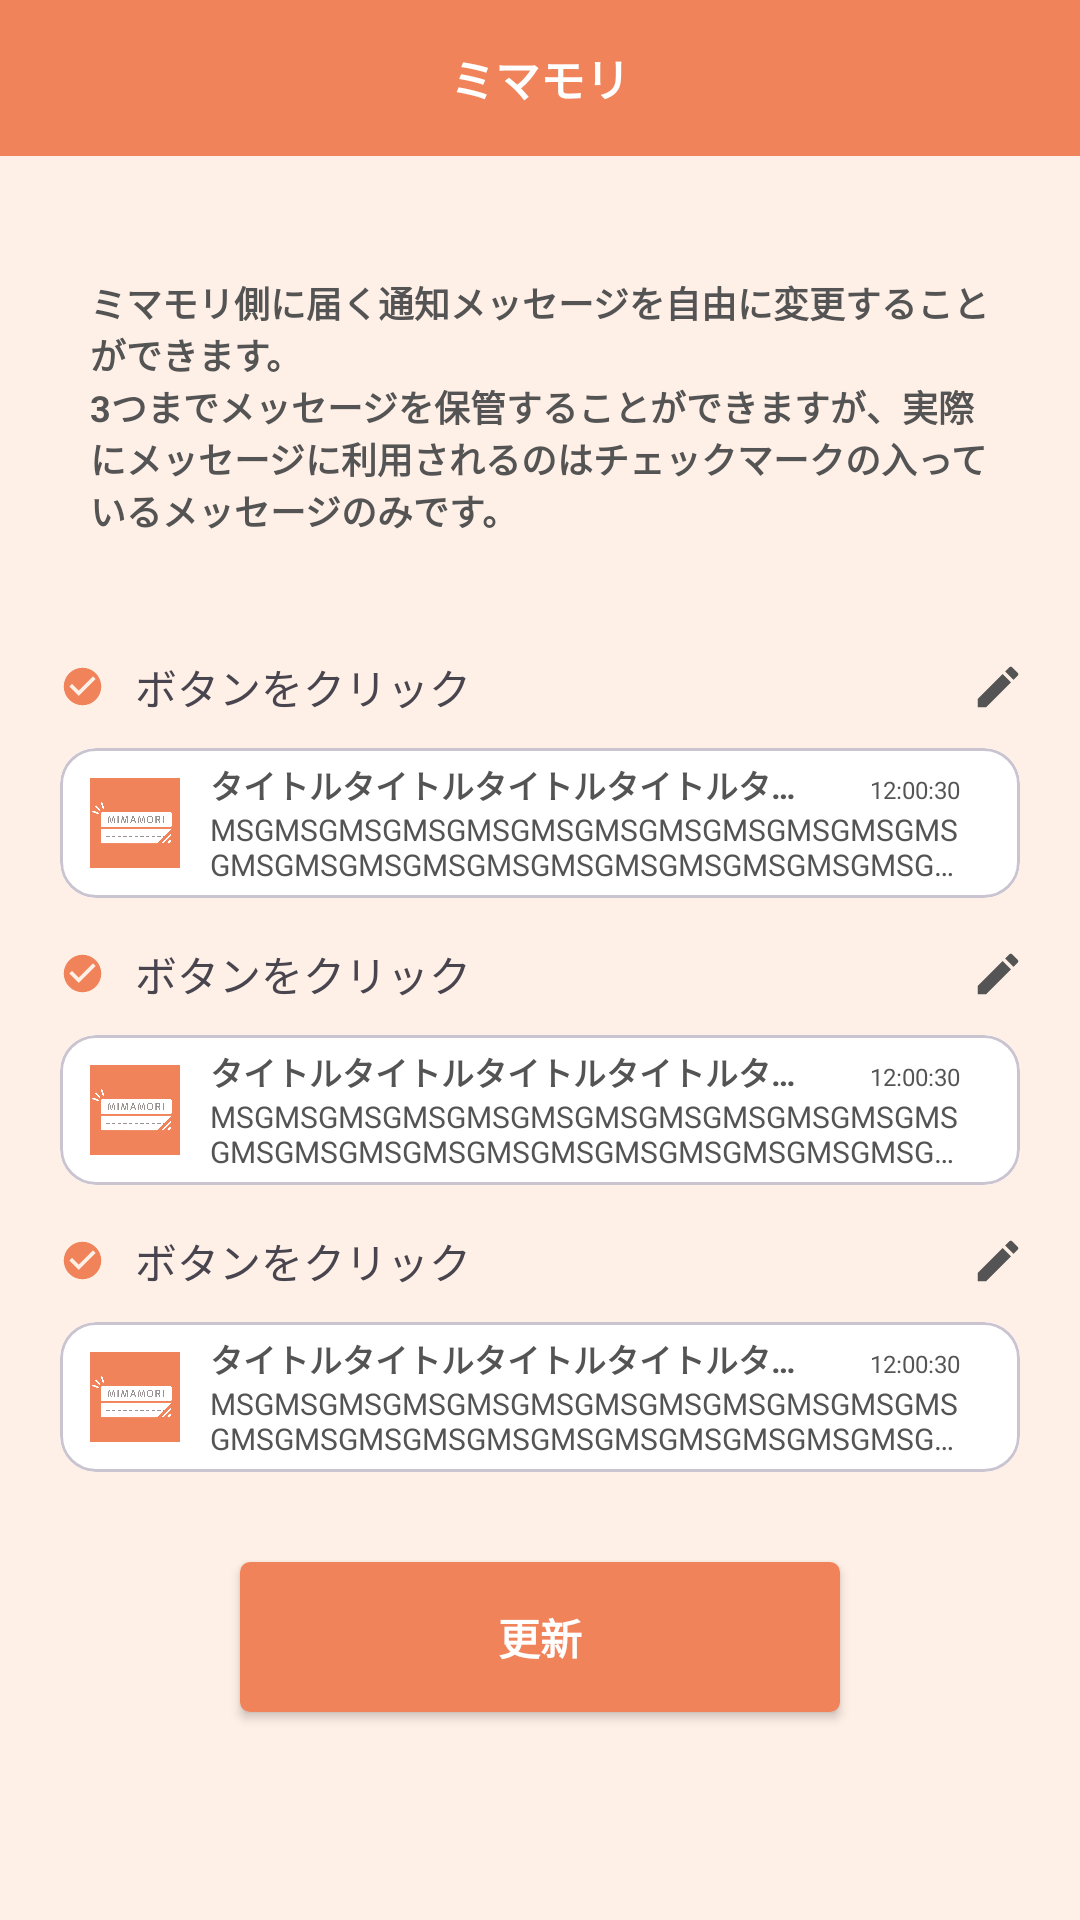

Named icons in this screenshot (1080w x 1920h) and their centers, (x=x, y=y):
check circle checked: (x=82, y=686), (x=82, y=973), (x=82, y=1260)
edit: (x=998, y=687), (x=998, y=974), (x=998, y=1261)
